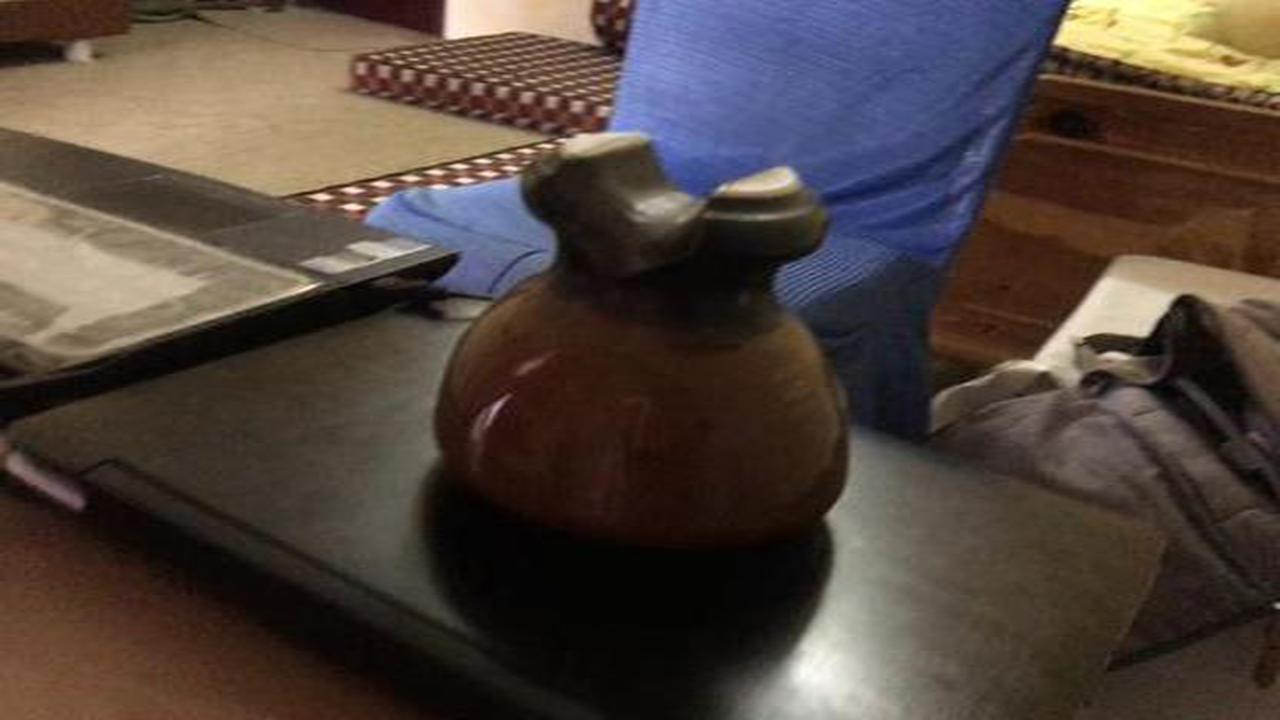insulator_pin: (415, 122, 874, 577)
